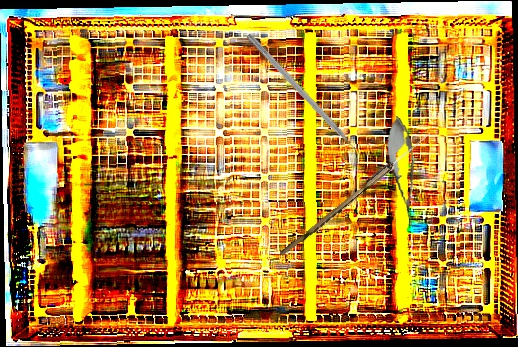Chopper: (239, 32, 365, 165)
Micro Scissor: (382, 114, 425, 229)
Surgical Spoon: (279, 129, 433, 260)
